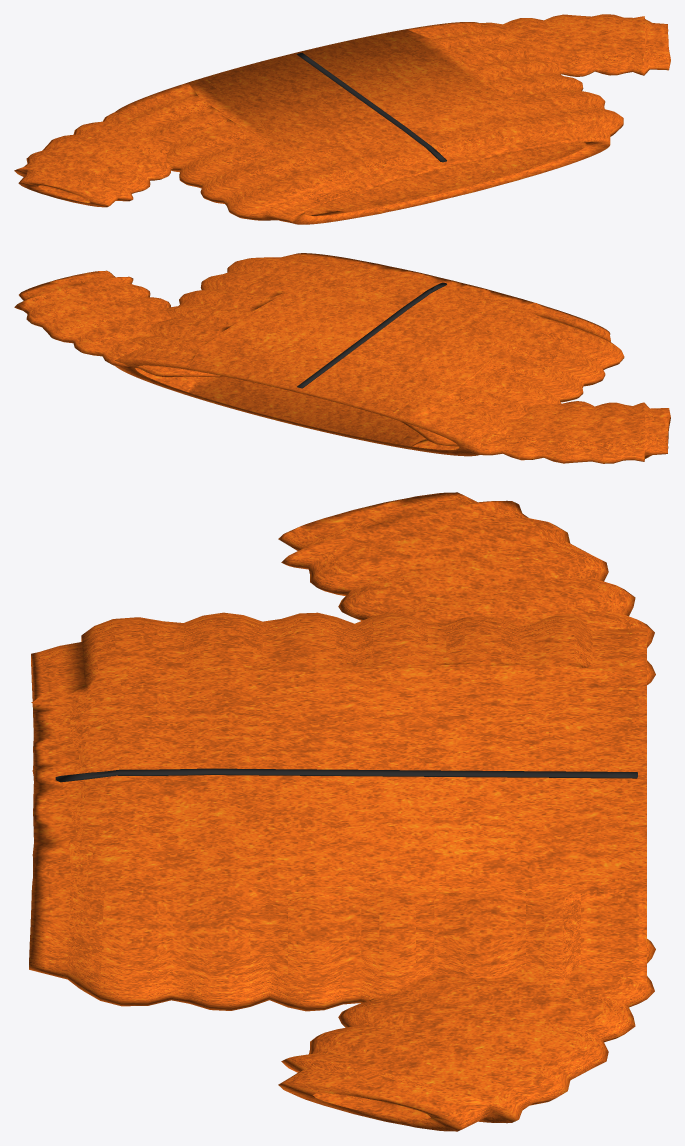
Rendered from puffer1.fbx.
The picture shows the model from 3 angles, top to bottom: view 1: azimuth 30°, elevation 25°; view 2: azimuth 150°, elevation 25°; view 3: azimuth 270°, elevation 25°; orthographic projection. The views are drawn at different scales.
Visible parts, largest first — view 1: puffer1; view 2: puffer1; view 3: puffer1.
Boxes of the visible parts, x1,y1,x2,y2 form: puffer1: (14, 14, 670, 224); puffer1: (14, 253, 670, 463); puffer1: (29, 492, 655, 1131).
Size of the model in its own units: 1.56 by 0.0929 by 0.6522.
Materials: 2 (1 with a texture image).
